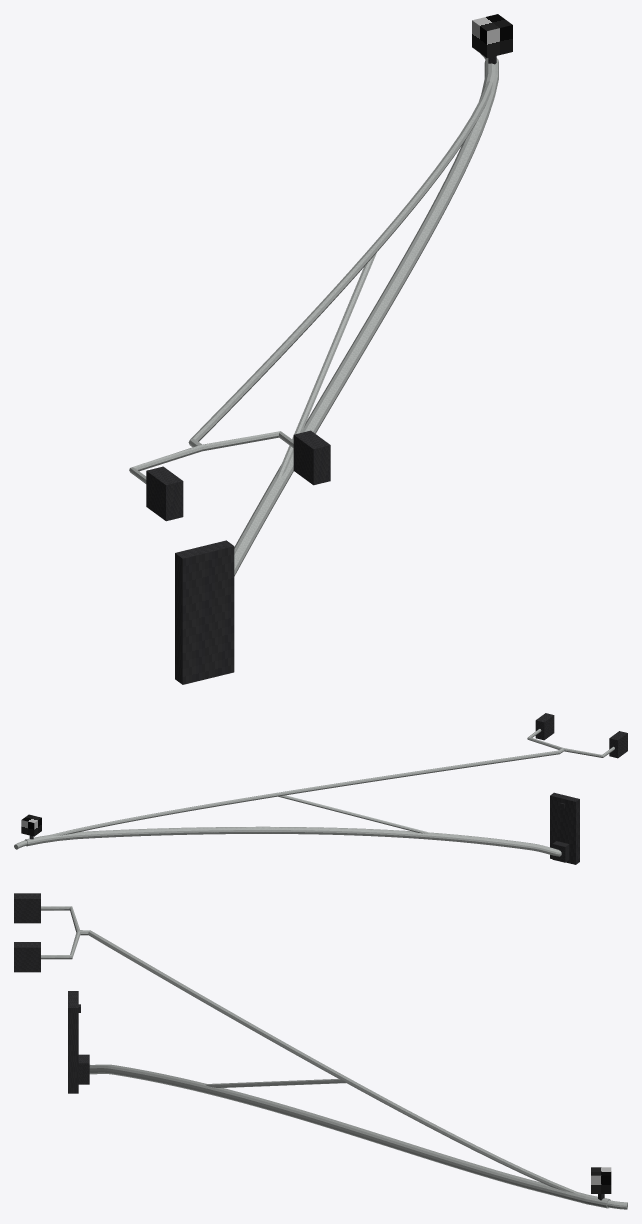
Rendered from arm_7_right.obj.
3 renders of one model, top to bottom at view 1: azimuth 30°, elevation 25°; view 2: azimuth 150°, elevation 25°; view 3: azimuth 270°, elevation 25°, orthographic. The views are drawn at different scales.
Parts seen in each view (by area): view 1: pole_light_mount_7_right; view 2: pole_light_mount_7_right; view 3: pole_light_mount_7_right.
Part boxes in pixels (bbox=[...]): pole_light_mount_7_right: bbox=[129, 14, 512, 684]; pole_light_mount_7_right: bbox=[14, 713, 627, 864]; pole_light_mount_7_right: bbox=[14, 893, 627, 1209].
Size of the model in its own units: 5.63 by 1.68 by 5.69.
